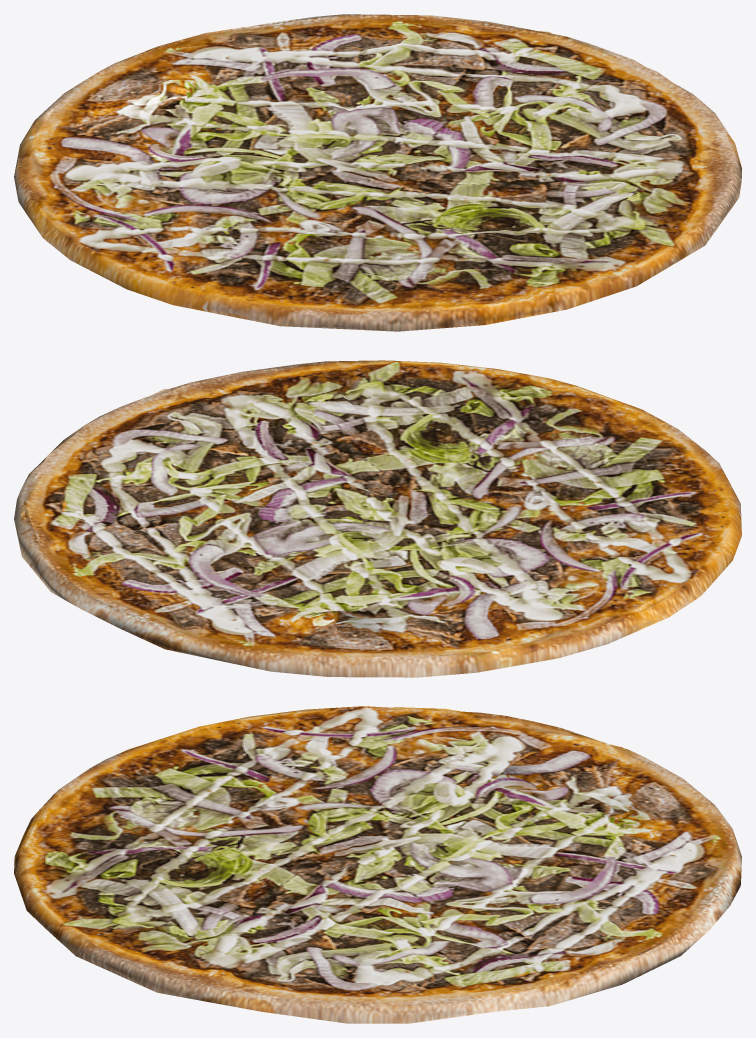
Rendered from Pizza.FBX.
The picture shows the model from 3 angles, top to bottom: view 1: azimuth 30°, elevation 25°; view 2: azimuth 150°, elevation 25°; view 3: azimuth 270°, elevation 25°; orthographic projection.
Visible parts, largest first — view 1: pizza; view 2: pizza; view 3: pizza.
Part boxes in pixels (x1,y1,x2,y2): pizza: (14, 14, 741, 331); pizza: (14, 360, 741, 677); pizza: (14, 706, 741, 1023).
Bounding box in the file's own units: 21.76 × 0.6678 × 21.77.
1 material, 1 textured.
